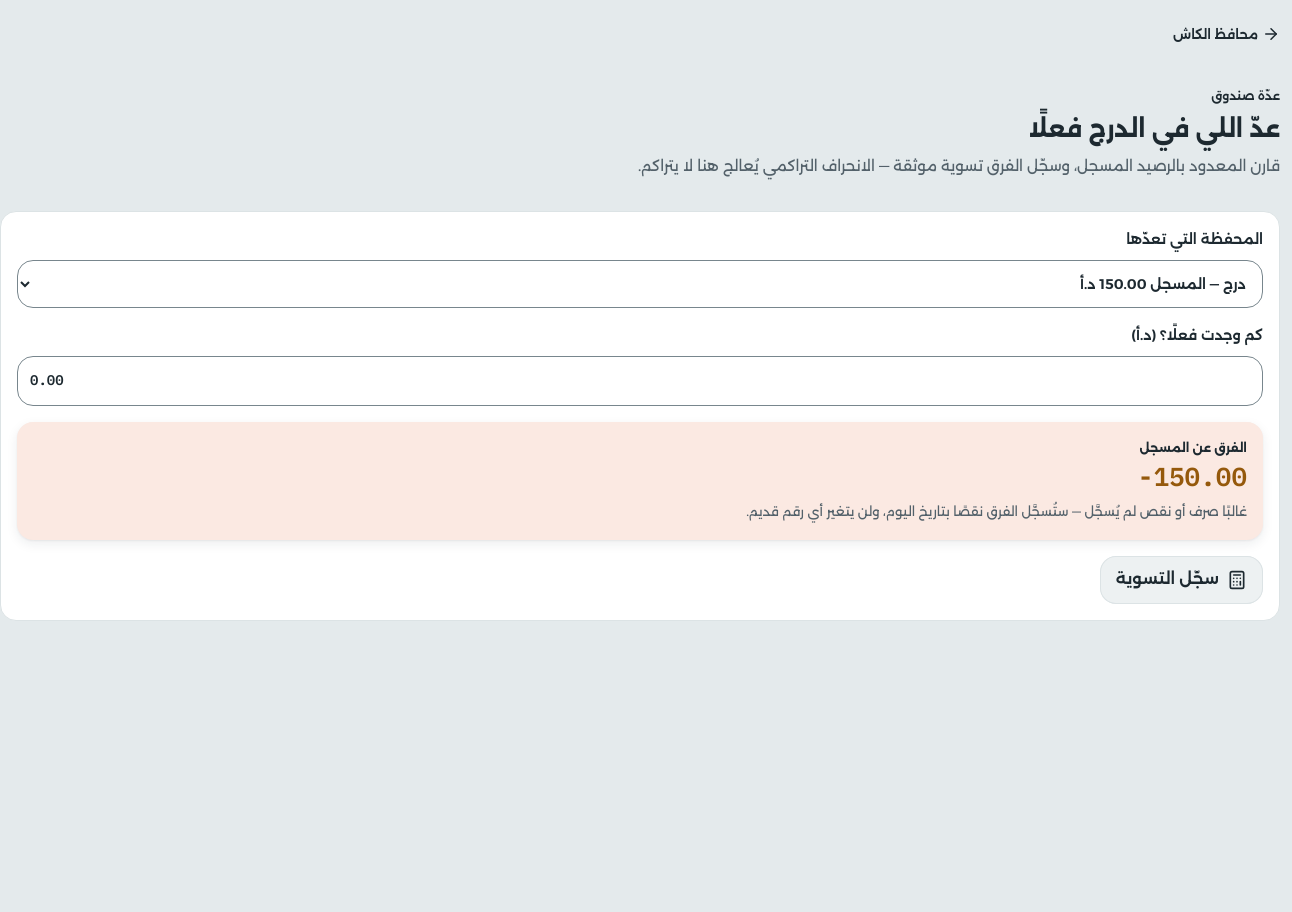
Scenario: CashCount journeys (Group 11-E) › blocks settlement when the count matches the recorded balance — no adjustment invented
The width and height of the screenshot is (1292, 912).
expect the heading "عدّ اللي في الدرج فعلًا" is shown: met, box [1028,114,1280,143]
Replace the text in the field named "المبلغ المعدود" with "150" at (640, 381), box [17,356,1263,406]
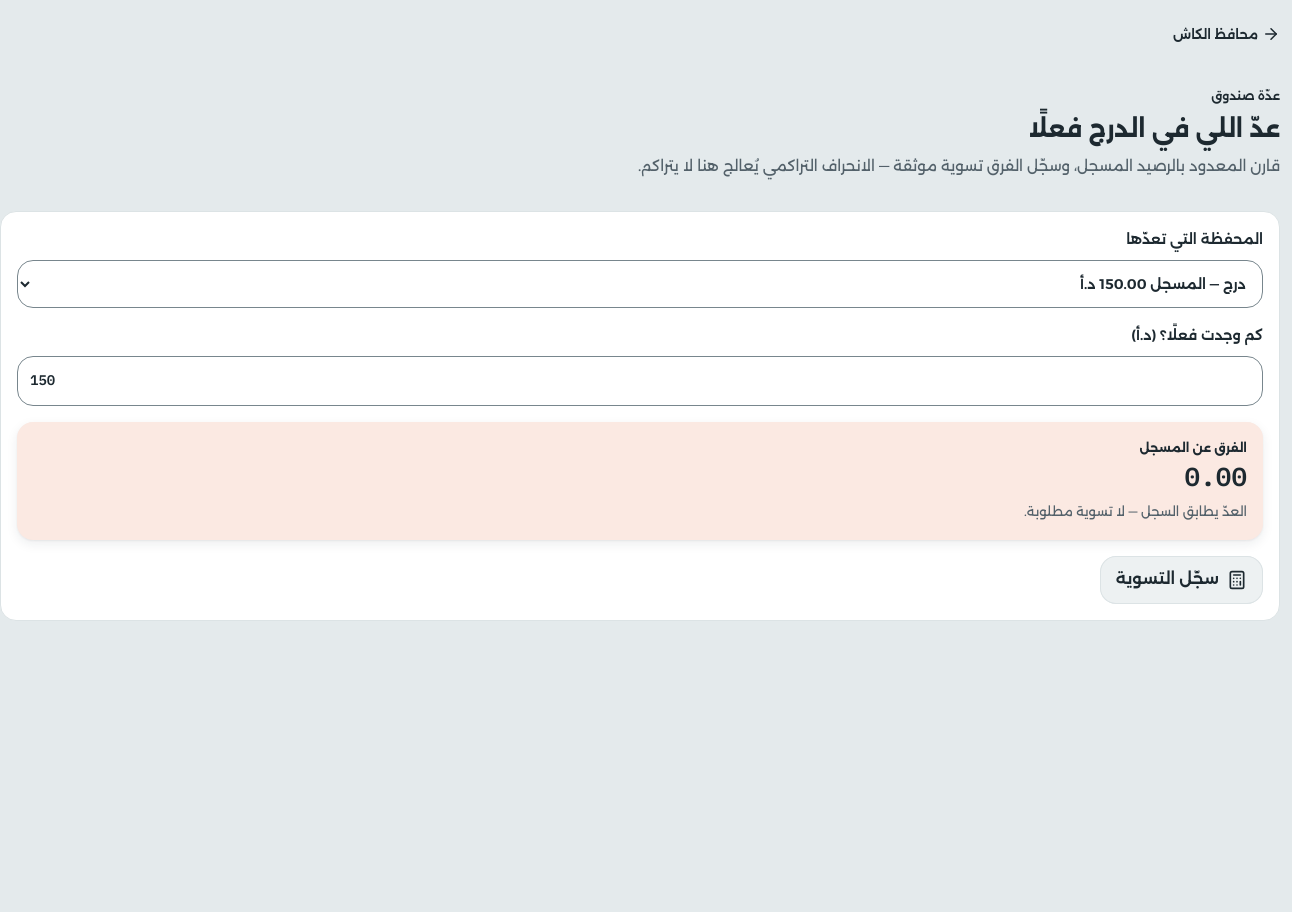
Click the button "سجّل التسوية" at (1181, 580), box [1100,556,1263,604]
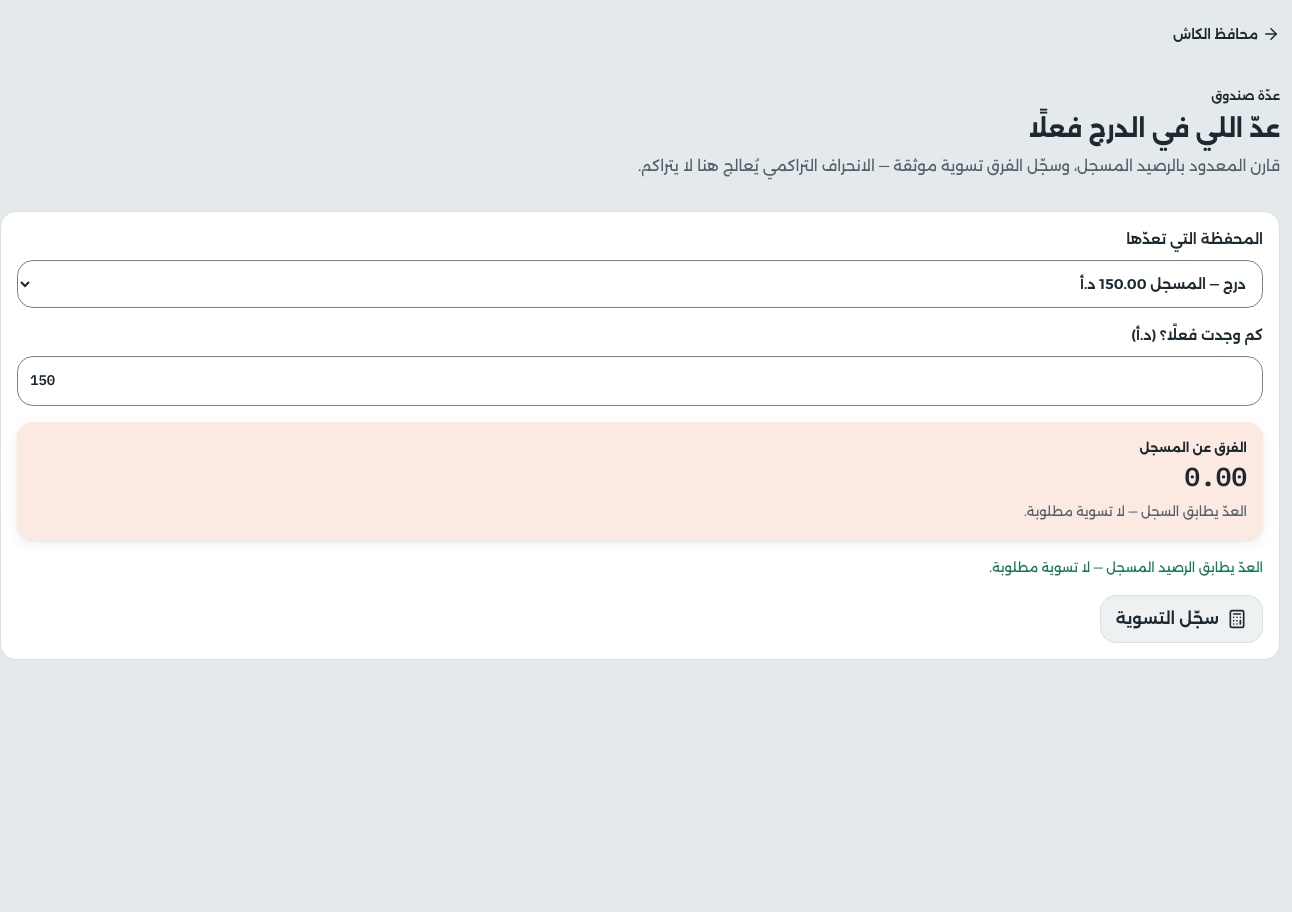
expect the text "العدّ يطابق الرصيد المسجل — لا تسوية مطلوبة." is shown: met, box [989,559,1263,575]
